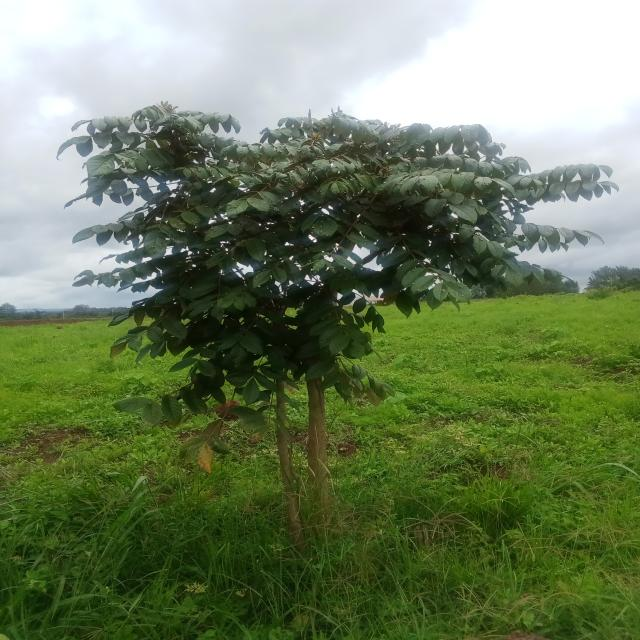Polyscias Kikuyensis: (39, 79, 640, 570)
